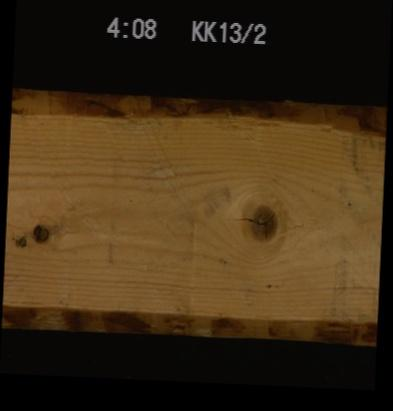sound_knot: (244, 200, 280, 243)
wave: (10, 96, 385, 133), (1, 300, 376, 334)
